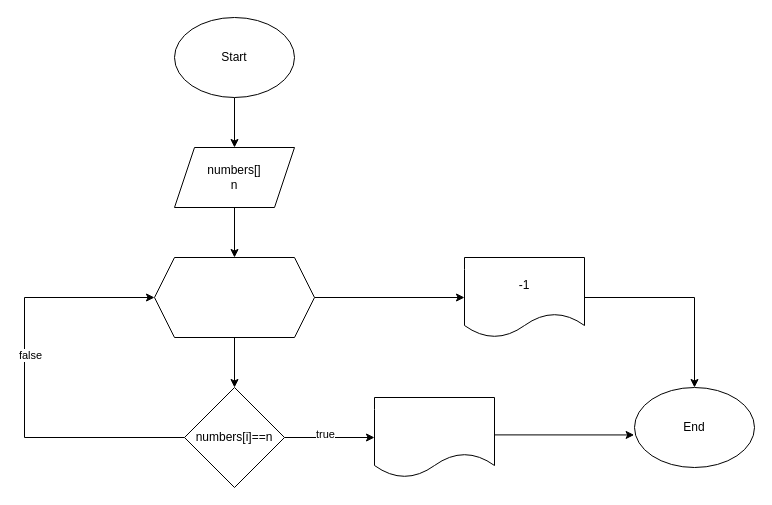
The diagram is 772 pixels wide and 505 high, and some of its shapes have lost their labels. Each missing label, with the box of its shape:
i=0;i<numbers.length;i++: (154, 256, 314, 338)
n ededi movcuddur yerleshdiyi index "i" dir: (374, 396, 494, 478)
